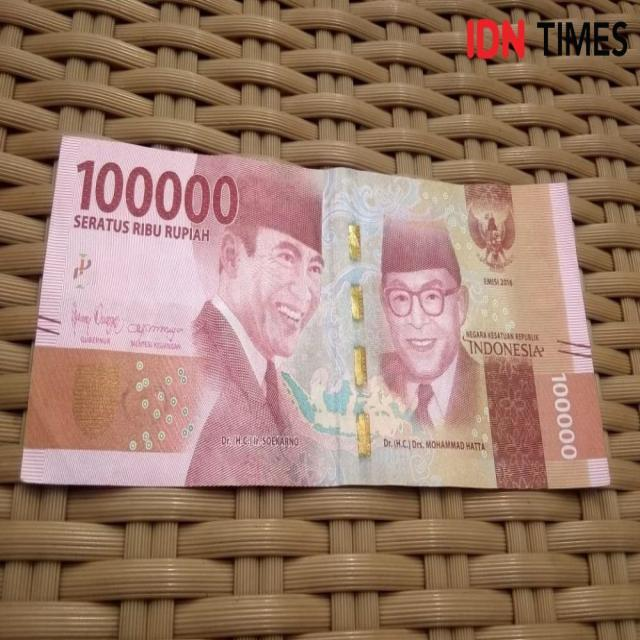seratus ribu rupiah: (46, 112, 594, 522)
